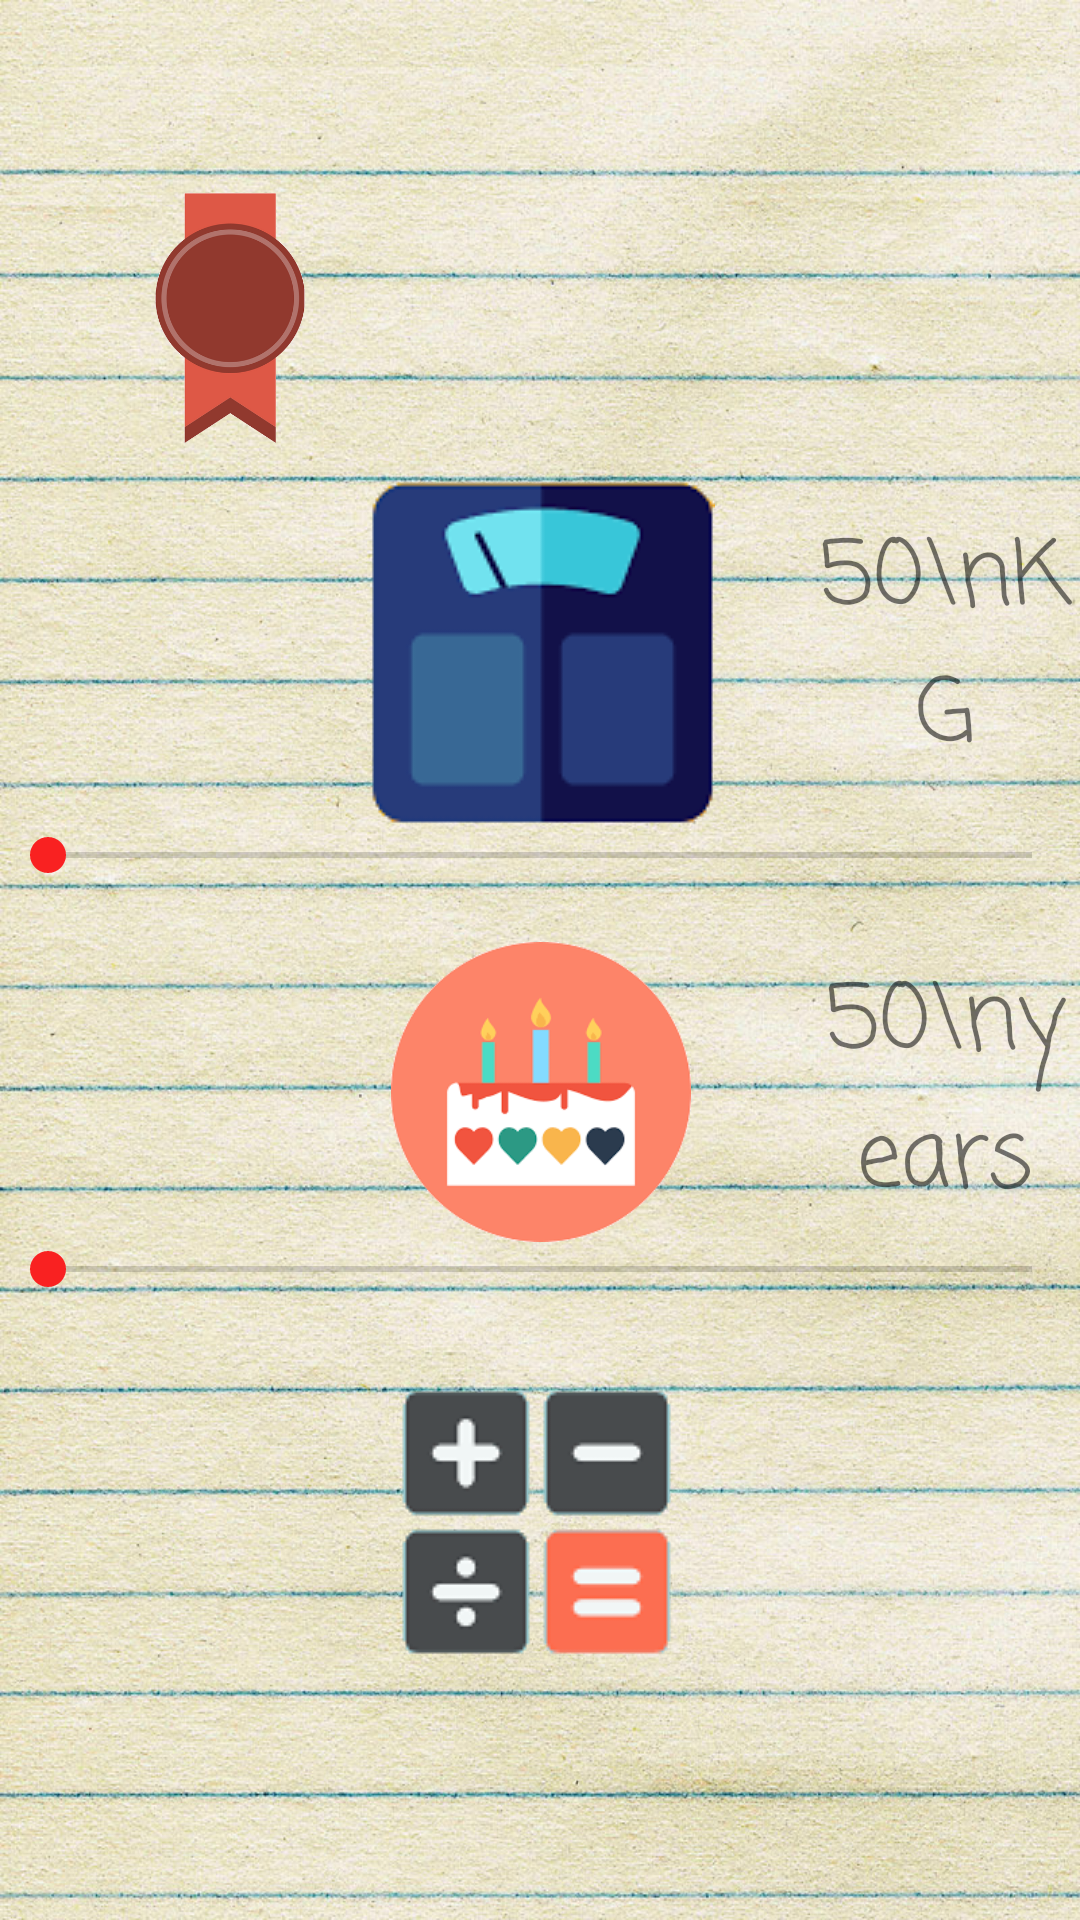

Where to tap for icons on this 1080px×1920px app screen, as [x,y]:
calculate bez: [539,1525]
ribbonpion: [231,317]
